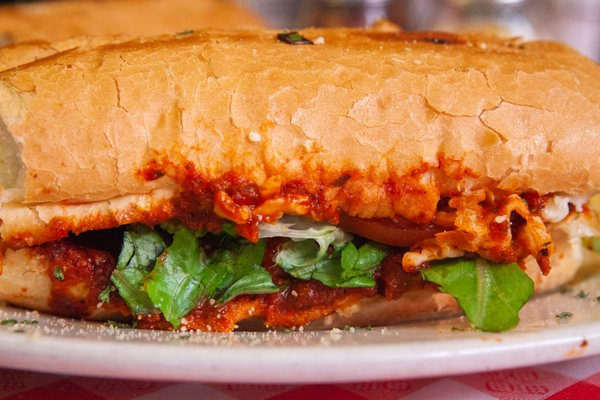soup: (1, 23, 600, 335)
